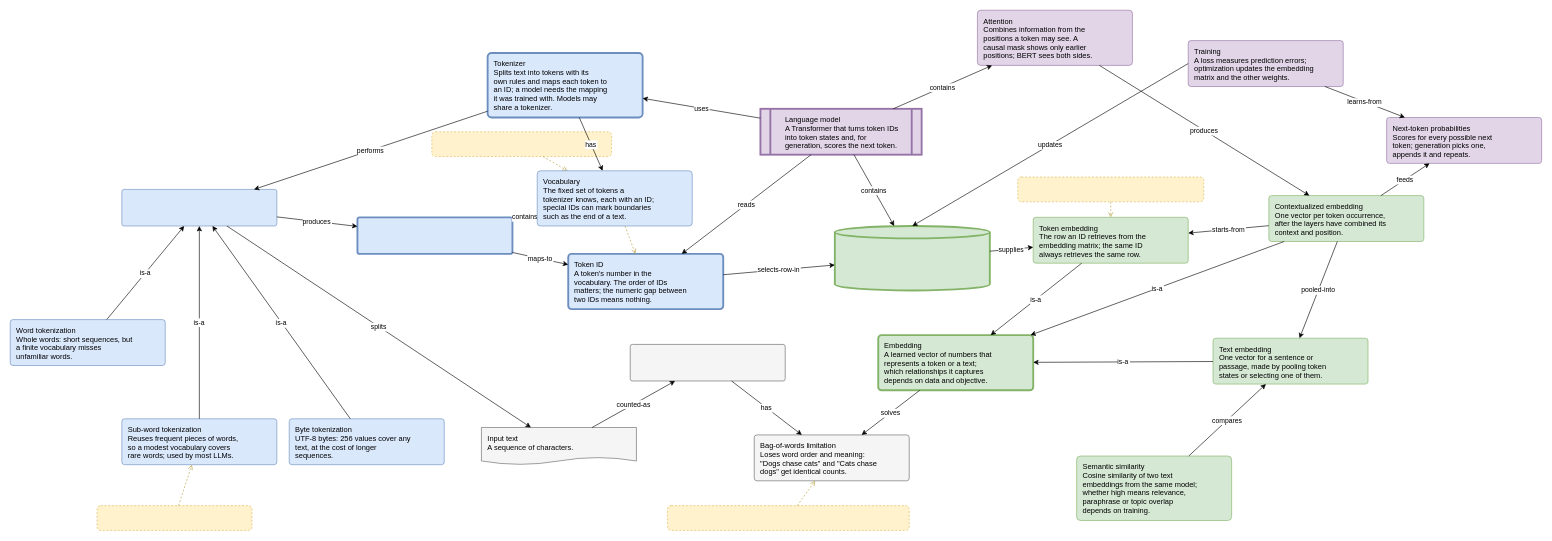
Some shapes in this 1552 by 541 pixel diagram are drawn without their labels. Here are the shapes that lost their labels. From the top down, the centre of each, then its label:
[521,144]: What breaks if a tokenizer swaps two IDs?
[199,207]: Tokenization Splitting text into tokens, the units a language model reads.
[1110,189]: How does context change a token's embedding?
[434,235]: Token One piece of text: a word, part of a word or a byte.
[912,258]: Embedding matrix The model's table with one learned row per vocabulary entry.
[707,362]: Bag-of-words Counts how often each vocabulary entry appears in a text.
[174,517]: Why do LLMs prefer sub-word tokens?
[788,517]: Can counts tell "dogs chase cats" from "cats chase dogs"?
